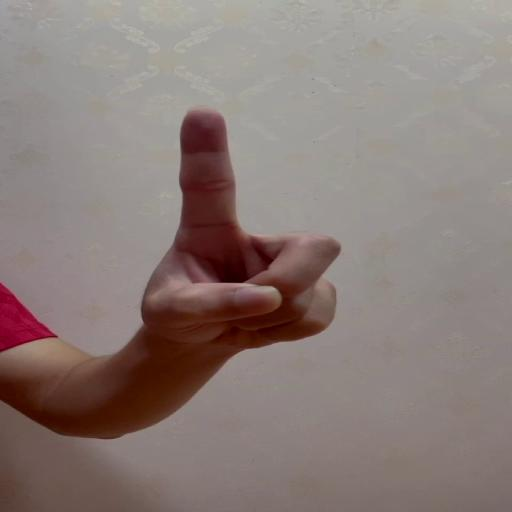point: (167, 103, 346, 354)
